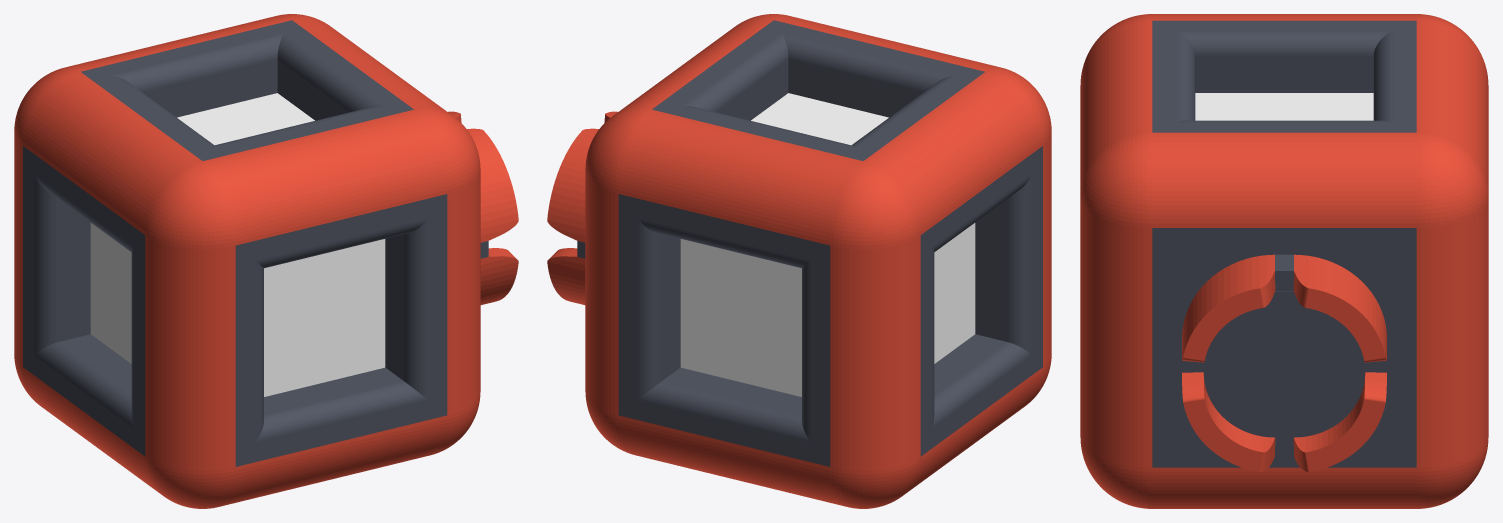
The model's file is slider_loader.fbx.
3 renders of one model, left to right at view 1: azimuth 30°, elevation 25°; view 2: azimuth 150°, elevation 25°; view 3: azimuth 270°, elevation 25°, orthographic. The views are drawn at different scales.
Parts seen in each view (by area): view 1: Cube; view 2: Cube; view 3: Cube.
Part boxes in pixels (bbox=[...]): Cube: bbox=[14, 14, 518, 508]; Cube: bbox=[547, 14, 1051, 508]; Cube: bbox=[1080, 14, 1488, 508].
Size of the model in its own units: 191 by 161 by 161.
